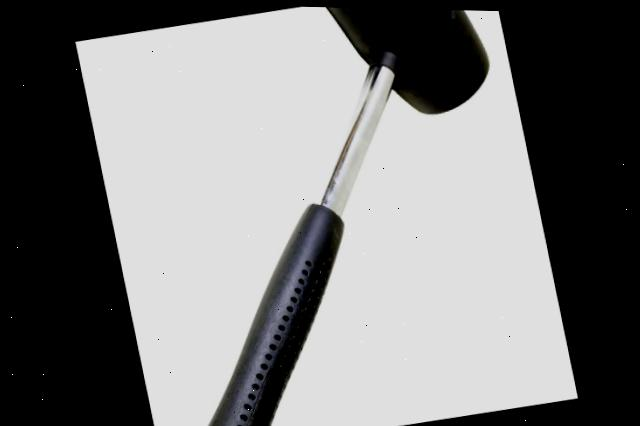hammer: (84, 1, 564, 426)
